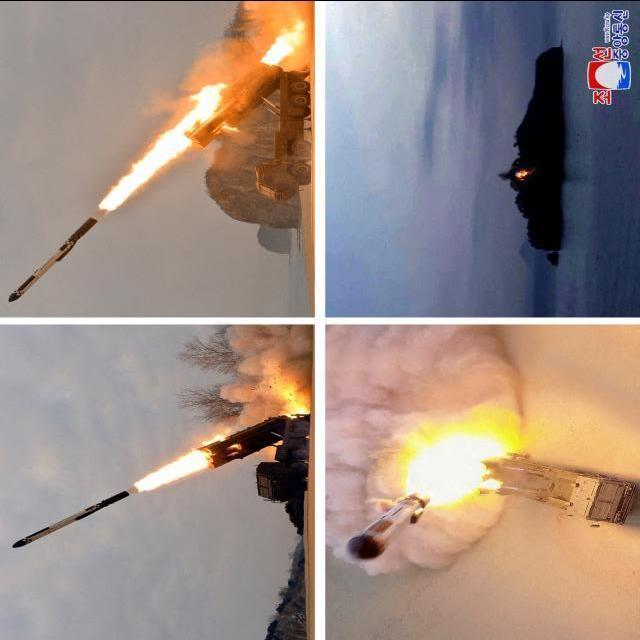Missile: (0, 483, 150, 552), (0, 210, 100, 305)
